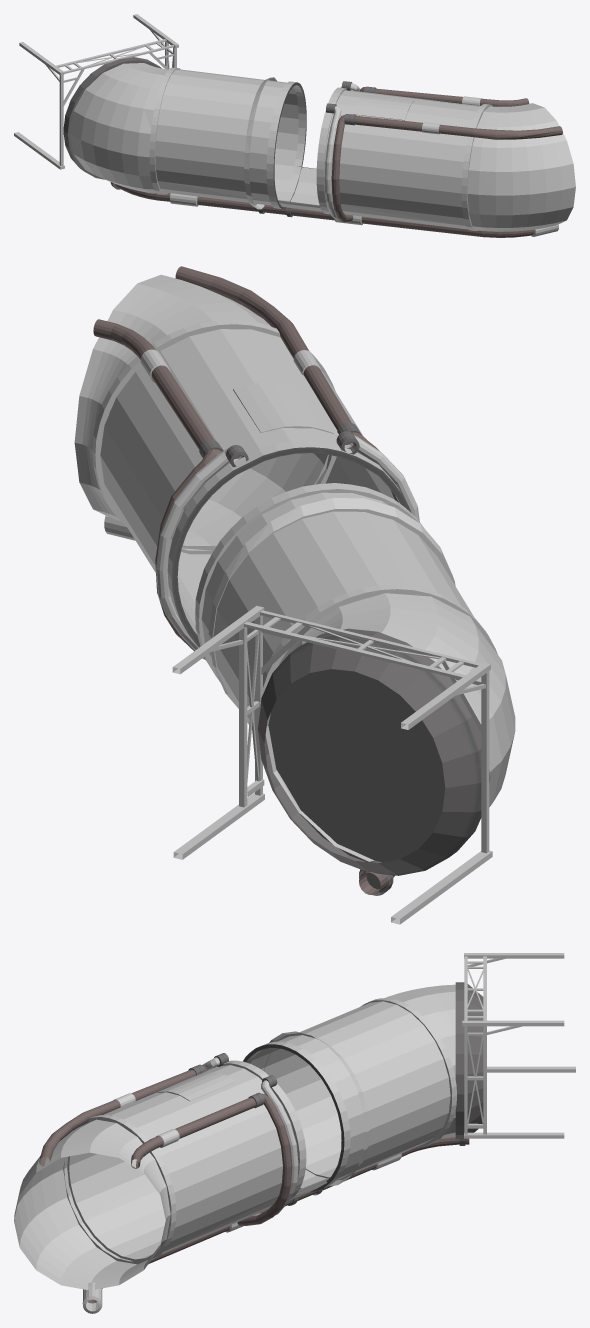
Rendered from AreaJ_Pipe_Outside_Ab.fbx.
3 views of the same model, one above another, from view 1: azimuth 30°, elevation 25°; view 2: azimuth 150°, elevation 25°; view 3: azimuth 270°, elevation 25° (orthographic). The views are drawn at different scales.
Parts seen in each view (by area): view 1: SM_ENV_AMVLLG02_AreaJ_Pipe_Outside_Ab.mo; view 2: SM_ENV_AMVLLG02_AreaJ_Pipe_Outside_Ab.mo; view 3: SM_ENV_AMVLLG02_AreaJ_Pipe_Outside_Ab.mo.
Part boxes in pixels (x1=…): SM_ENV_AMVLLG02_AreaJ_Pipe_Outside_Ab.mo: x1=14, y1=14, x2=575, y2=237; SM_ENV_AMVLLG02_AreaJ_Pipe_Outside_Ab.mo: x1=74, y1=266, x2=515, y2=924; SM_ENV_AMVLLG02_AreaJ_Pipe_Outside_Ab.mo: x1=14, y1=953, x2=575, y2=1313.
Bounding box in the file's own units: 5328 × 1955 × 6205.
